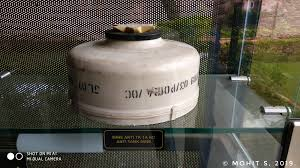car: (52, 17, 211, 134)
